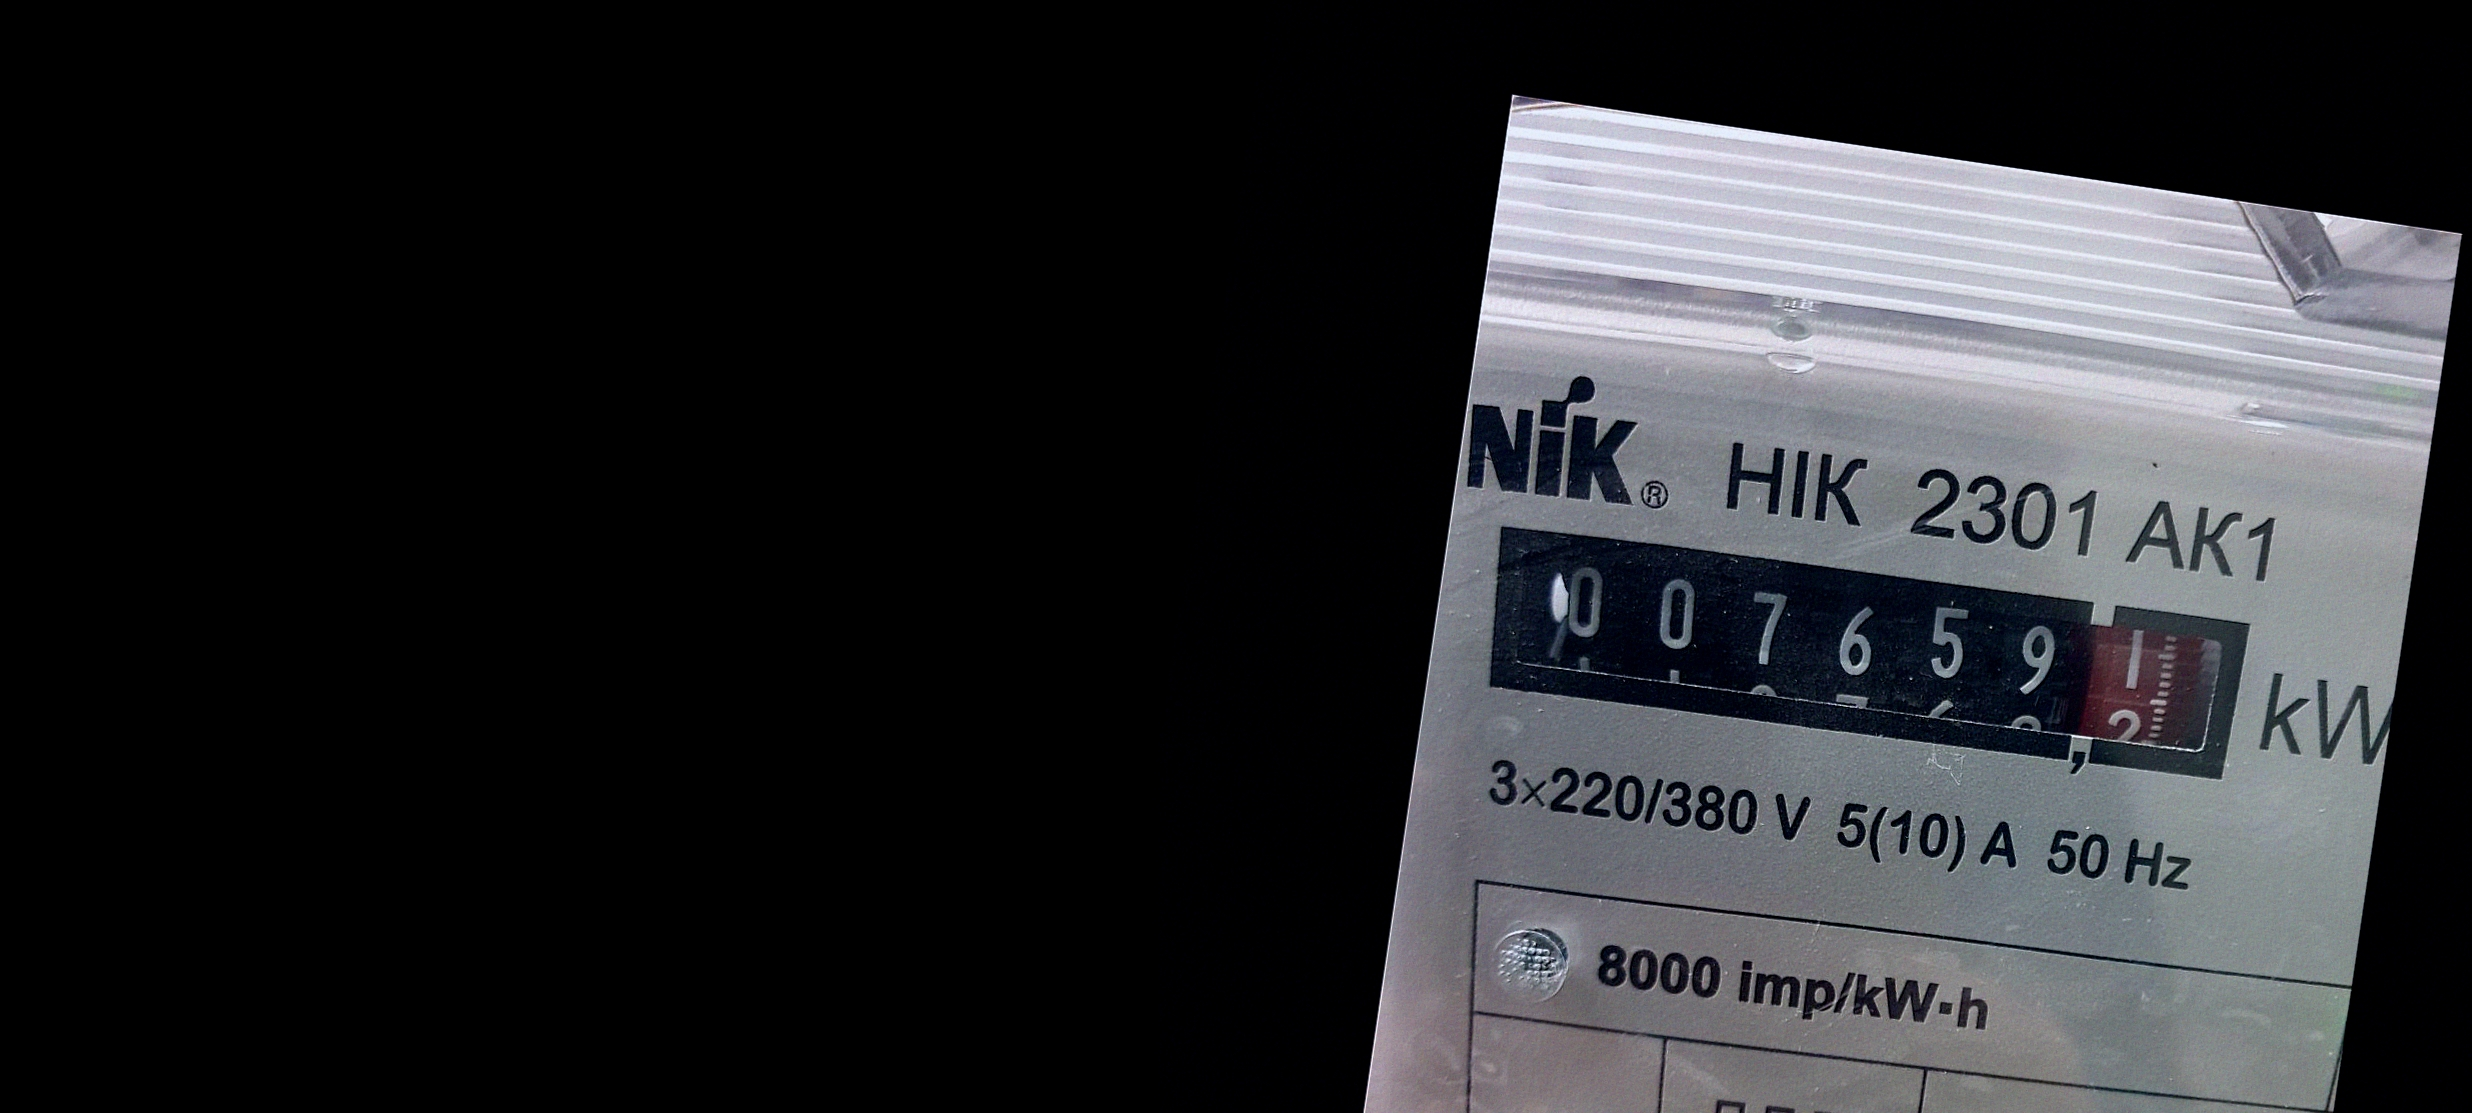0: (1643, 566, 1711, 659), (1554, 553, 1618, 650)
1: (2116, 620, 2158, 700)
5: (1919, 597, 1975, 686)
6: (1826, 593, 1889, 683)
7: (1739, 583, 1793, 673)
9: (2010, 613, 2064, 708)
screen: (1457, 490, 2273, 817)
